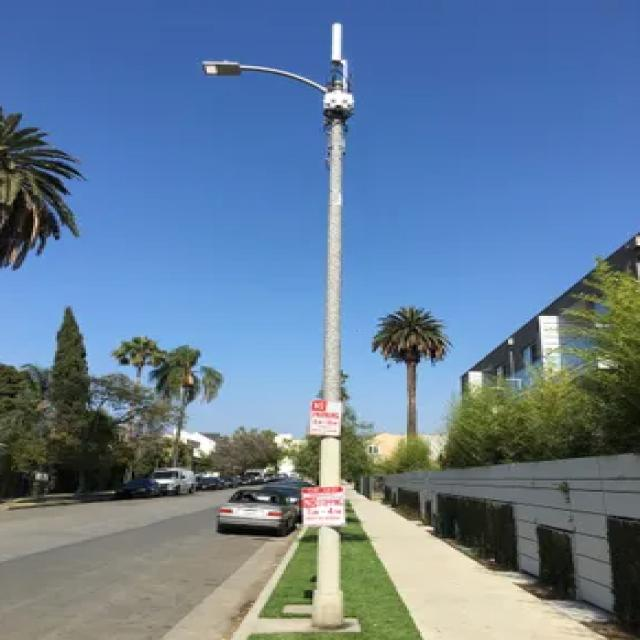Electric pole: (202, 23, 354, 512), (312, 517, 347, 631)
